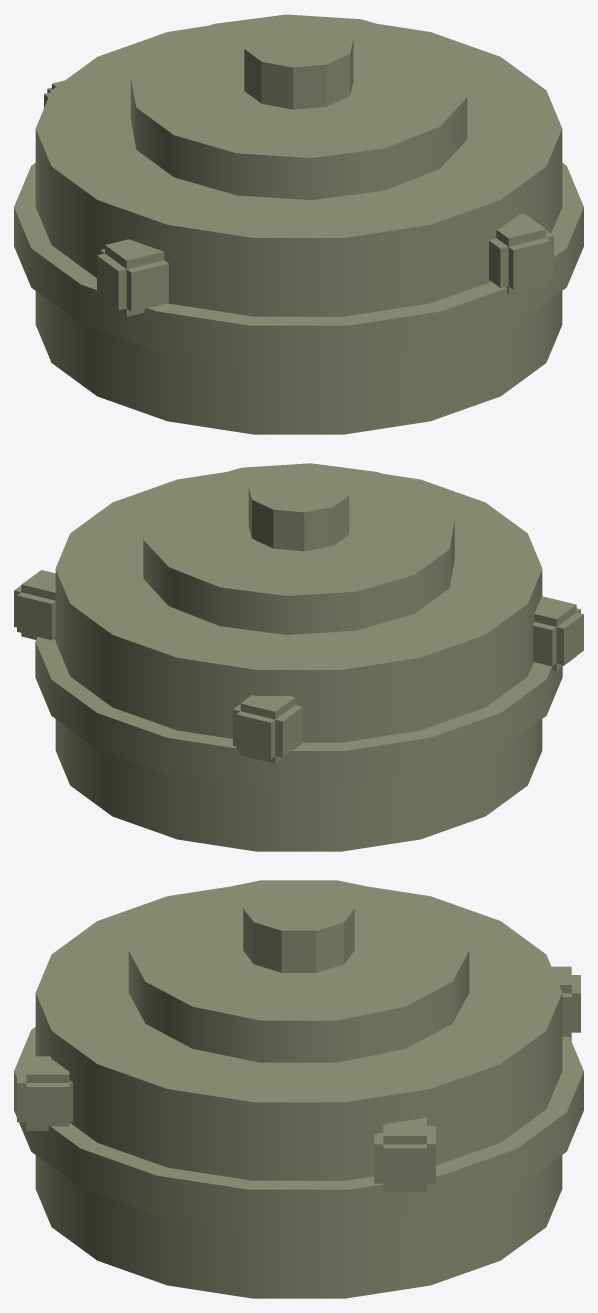
Rendered from mine_canister.glb.
3 renders of one model, top to bottom at view 1: azimuth 30°, elevation 25°; view 2: azimuth 150°, elevation 25°; view 3: azimuth 270°, elevation 25°, orthographic. The views are drawn at different scales.
Parts seen in each view (by area): view 1: mine_canister; view 2: mine_canister; view 3: mine_canister.
Boxes of the visible parts, bbox=[...] form: mine_canister: bbox=[14, 14, 583, 434]; mine_canister: bbox=[14, 463, 583, 851]; mine_canister: bbox=[14, 880, 583, 1298].
Size of the model in its own units: 0.1821 by 0.1 by 0.184.
